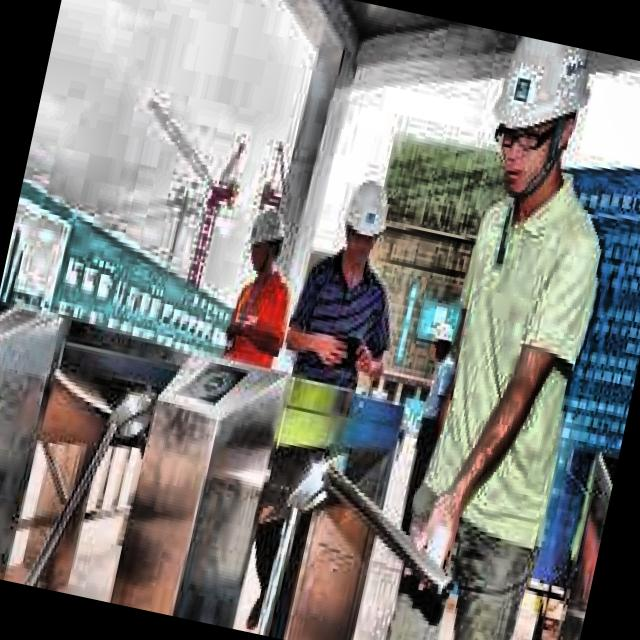helmet: (468, 35, 594, 220), (332, 166, 396, 276), (241, 192, 291, 278), (427, 316, 458, 366)
